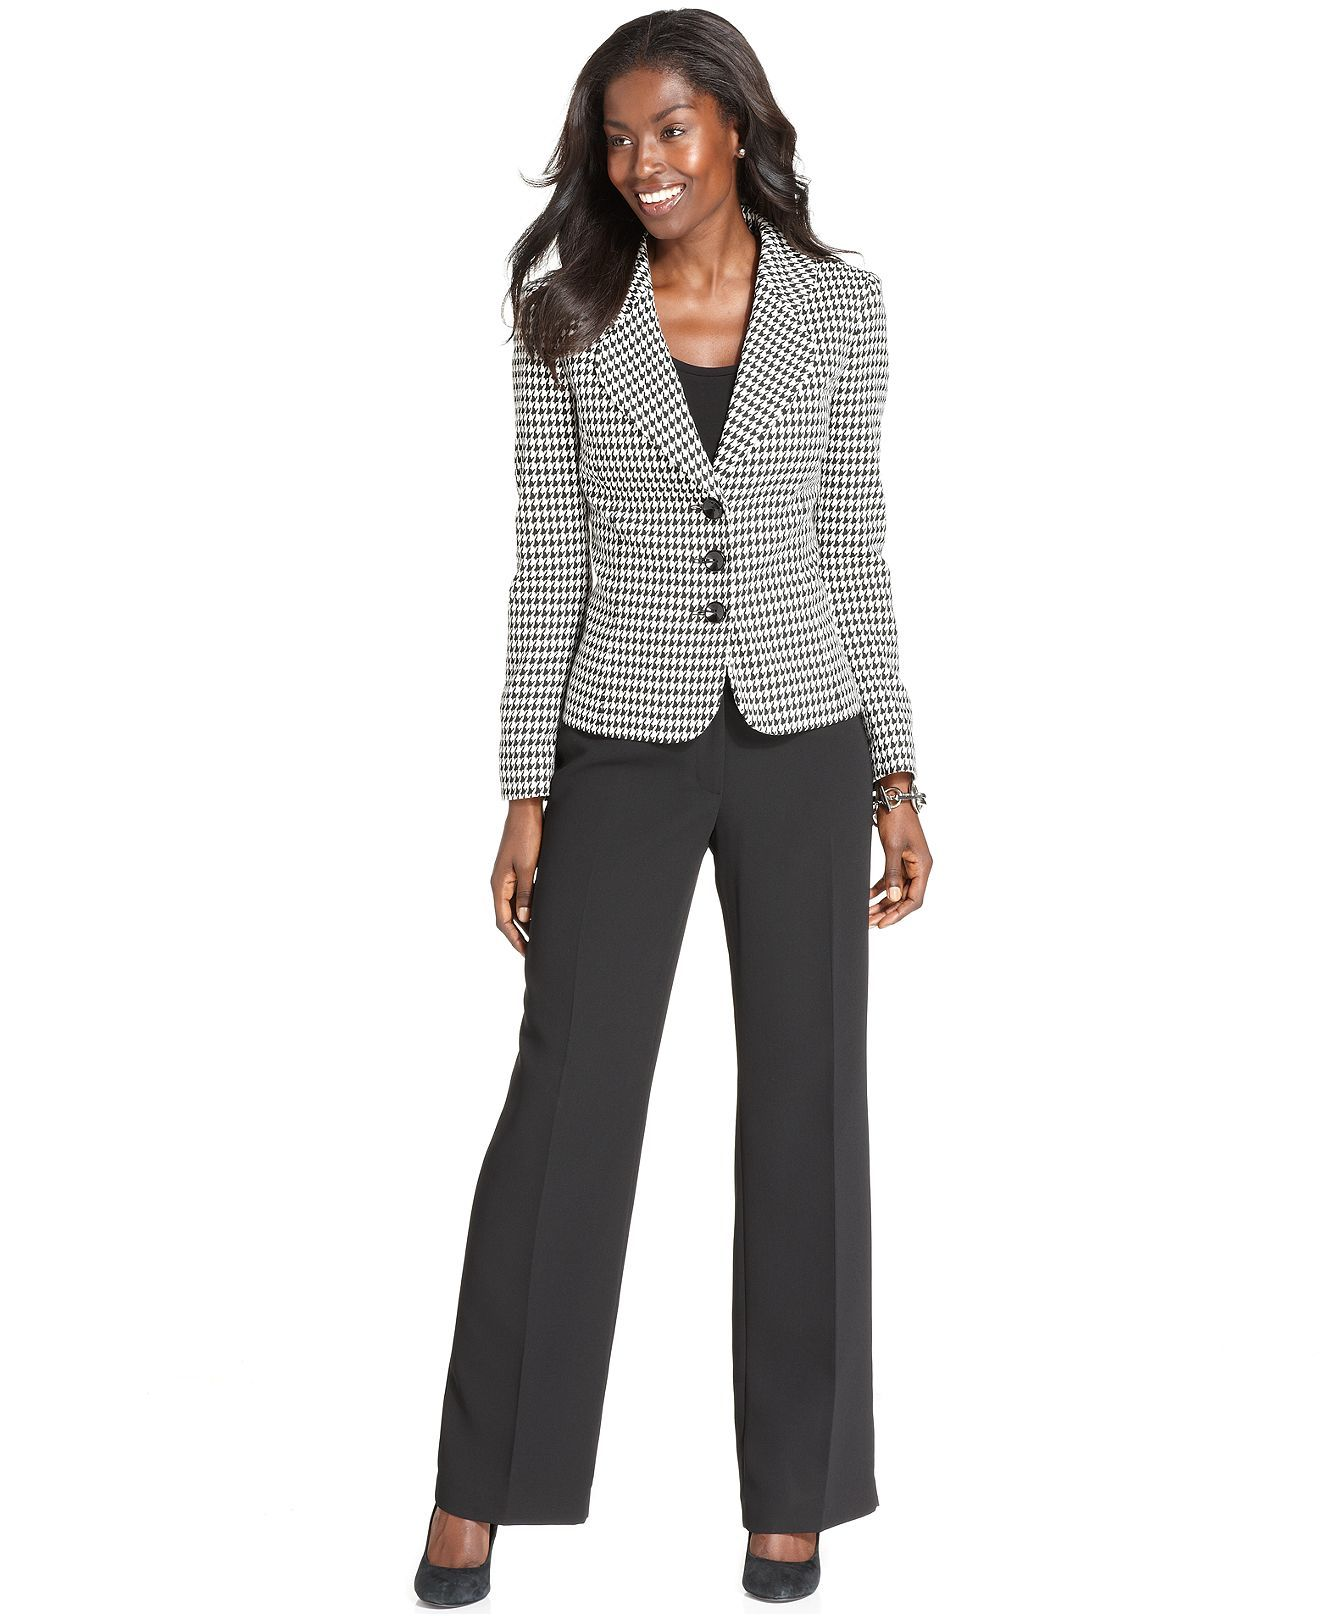F_W_suit jacket: (443, 164, 1010, 756)
